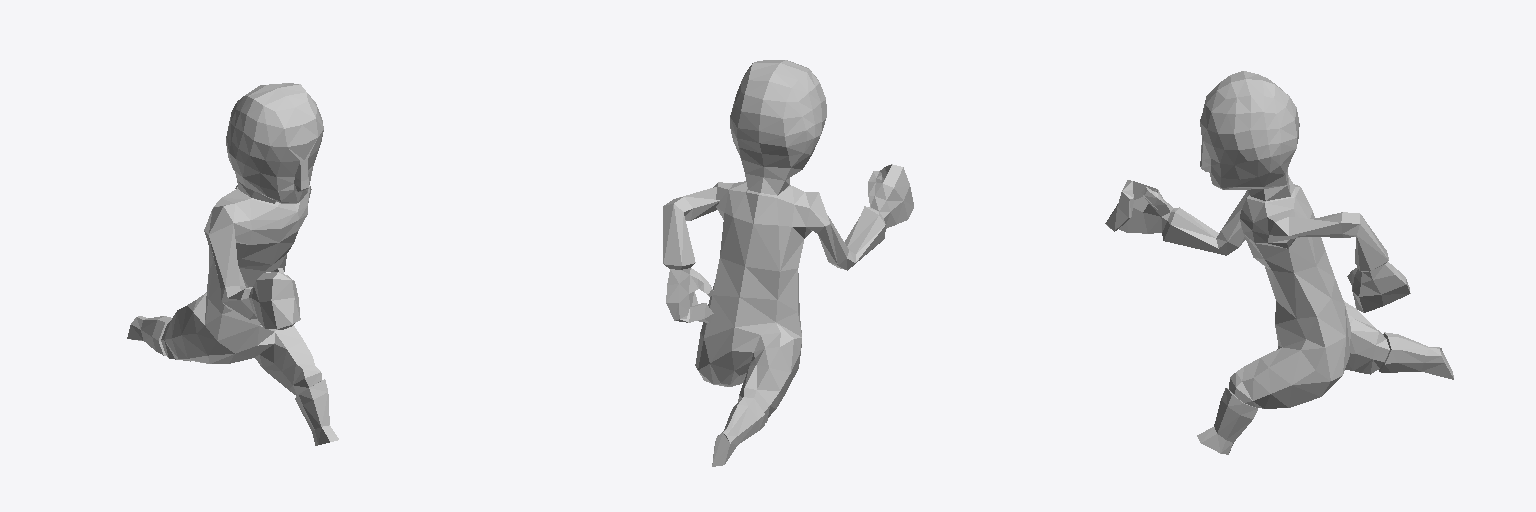
Rendered from KnightCharacter11.obj.
The picture shows the model from 3 angles: view 1: azimuth 30°, elevation 25°; view 2: azimuth 150°, elevation 25°; view 3: azimuth 270°, elevation 25°; orthographic projection.
Parts seen in each view (by area): view 1: Knight; view 2: Knight; view 3: Knight.
Boxes of the visible parts, x1=… form: Knight: x1=127, y1=83, x2=338, y2=445; Knight: x1=663, y1=60, x2=913, y2=466; Knight: x1=1105, y1=71, x2=1453, y2=454.
Bounding box in the file's own units: 1.94 × 4.98 × 4.4.